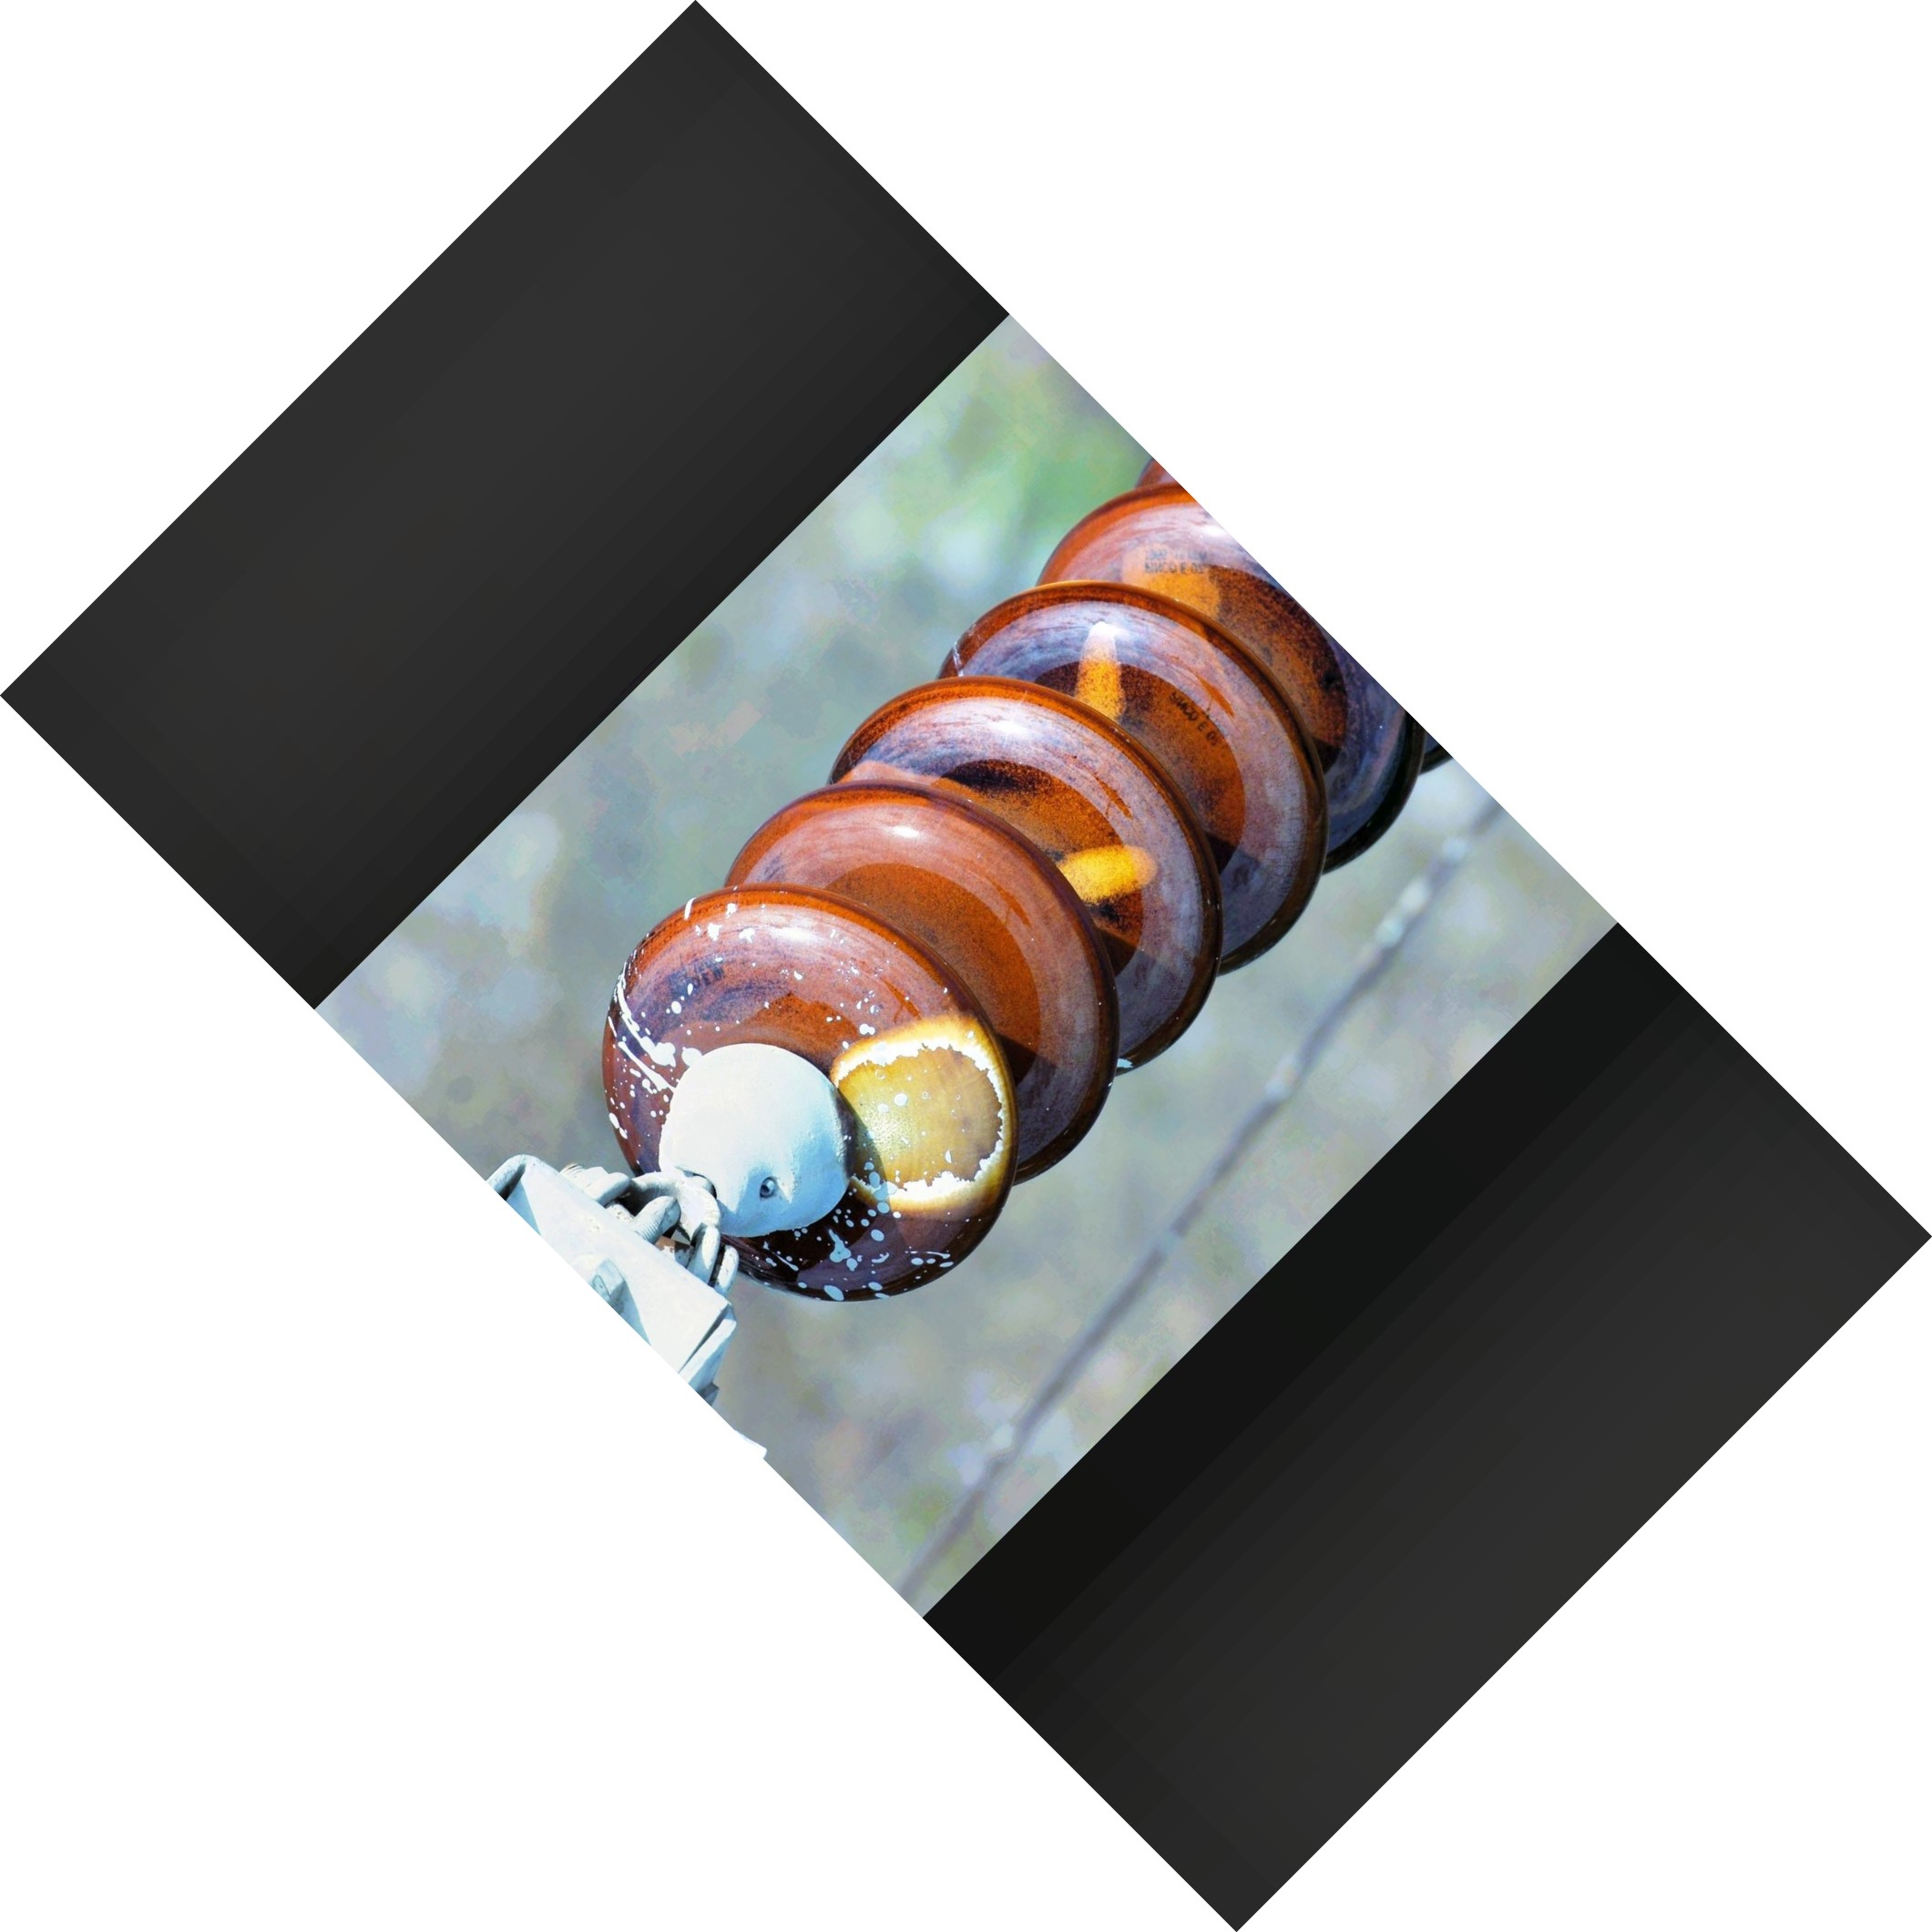Insulator flashover: (594, 883, 1026, 1325)
